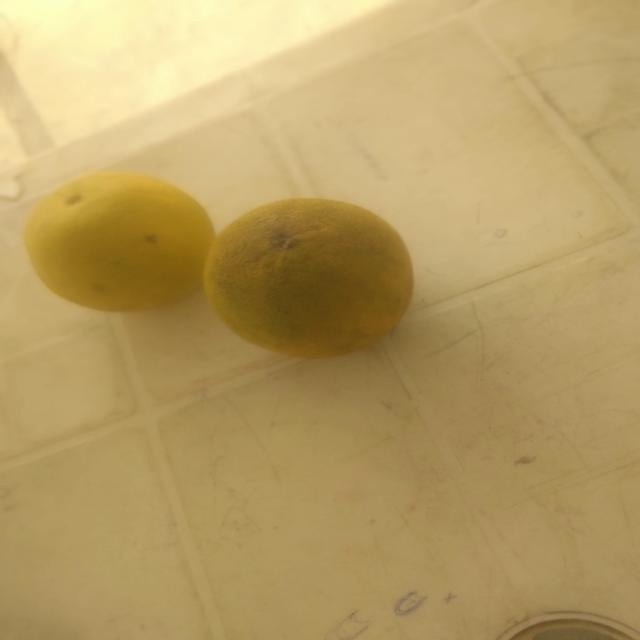agrume: (201, 194, 426, 384), (24, 163, 209, 345)
